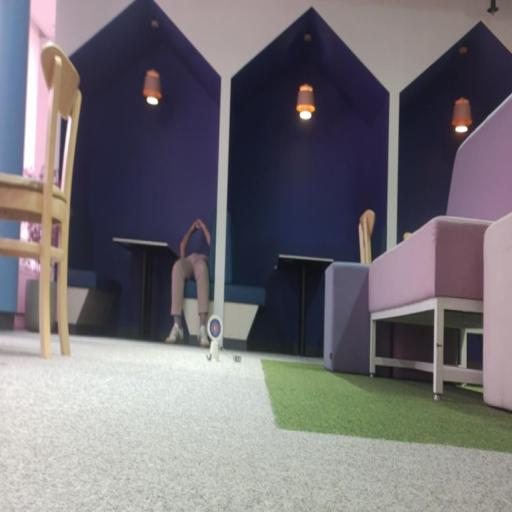target: (207, 315, 222, 341)
